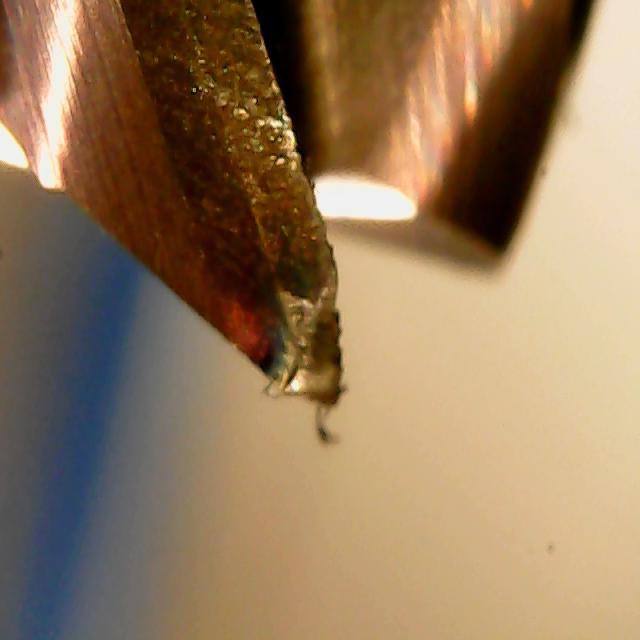Tool-wear-class-2: (200, 51, 364, 424)
